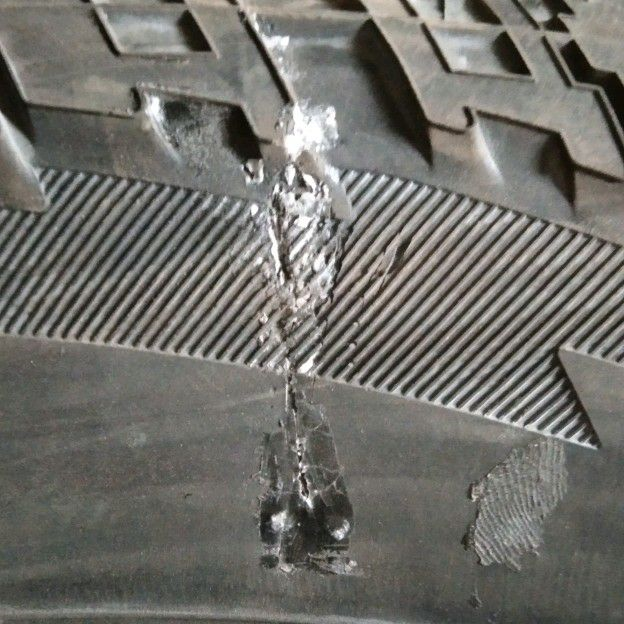cut: (254, 162, 357, 573), (135, 88, 235, 180)
